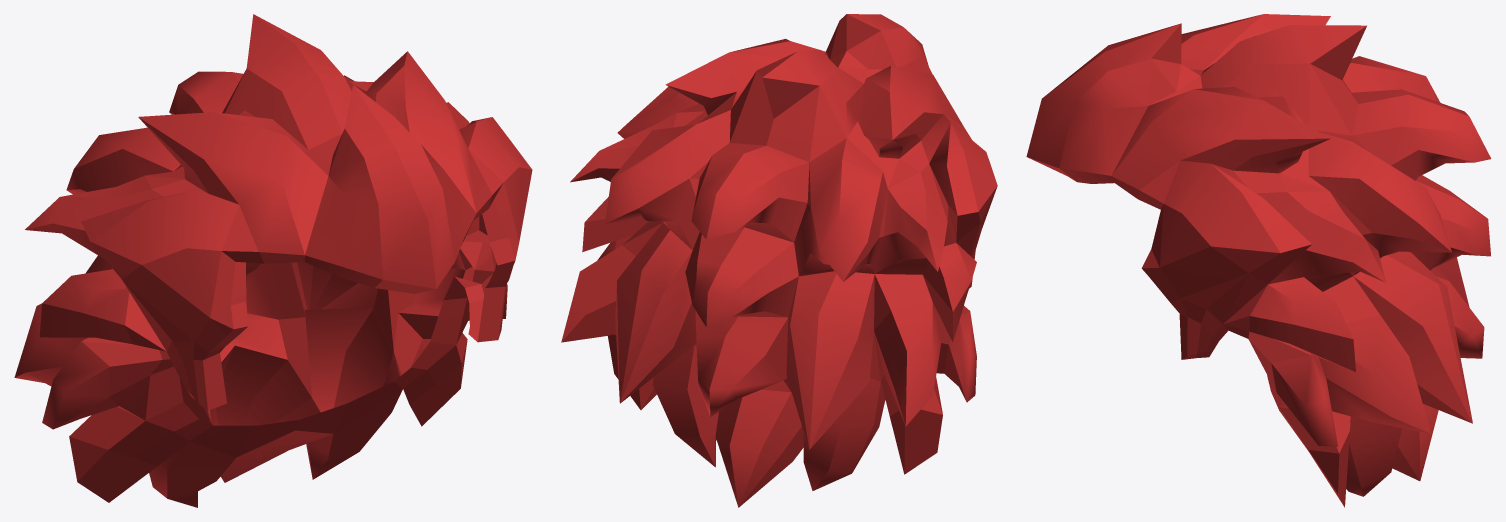
File: Hair_Red_20.fbx
The picture shows the model from 3 angles, left to right: view 1: azimuth 30°, elevation 25°; view 2: azimuth 150°, elevation 25°; view 3: azimuth 270°, elevation 25°; orthographic projection. The views are drawn at different scales.
Parts seen in each view (by area): view 1: Hair_Red_20; view 2: Hair_Red_20; view 3: Hair_Red_20.
Part boxes in pixels (box(x1,y1,x2,y2)): Hair_Red_20: box(14, 14, 532, 507); Hair_Red_20: box(561, 14, 997, 507); Hair_Red_20: box(1026, 14, 1491, 507).
Bounding box in the file's own units: 73.92 × 76.65 × 70.5.
